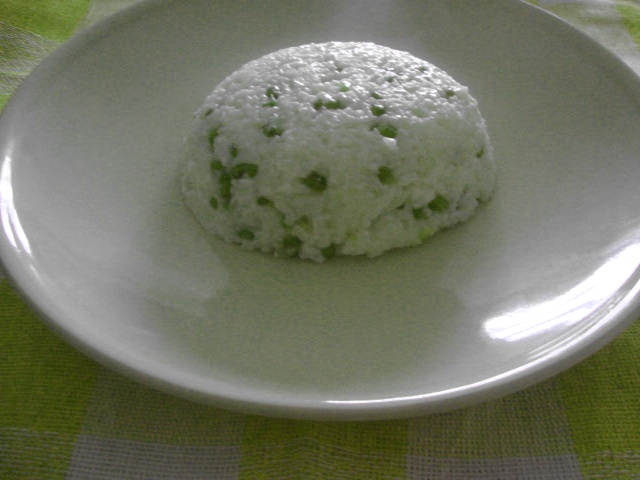kiribath: (172, 32, 504, 266)
